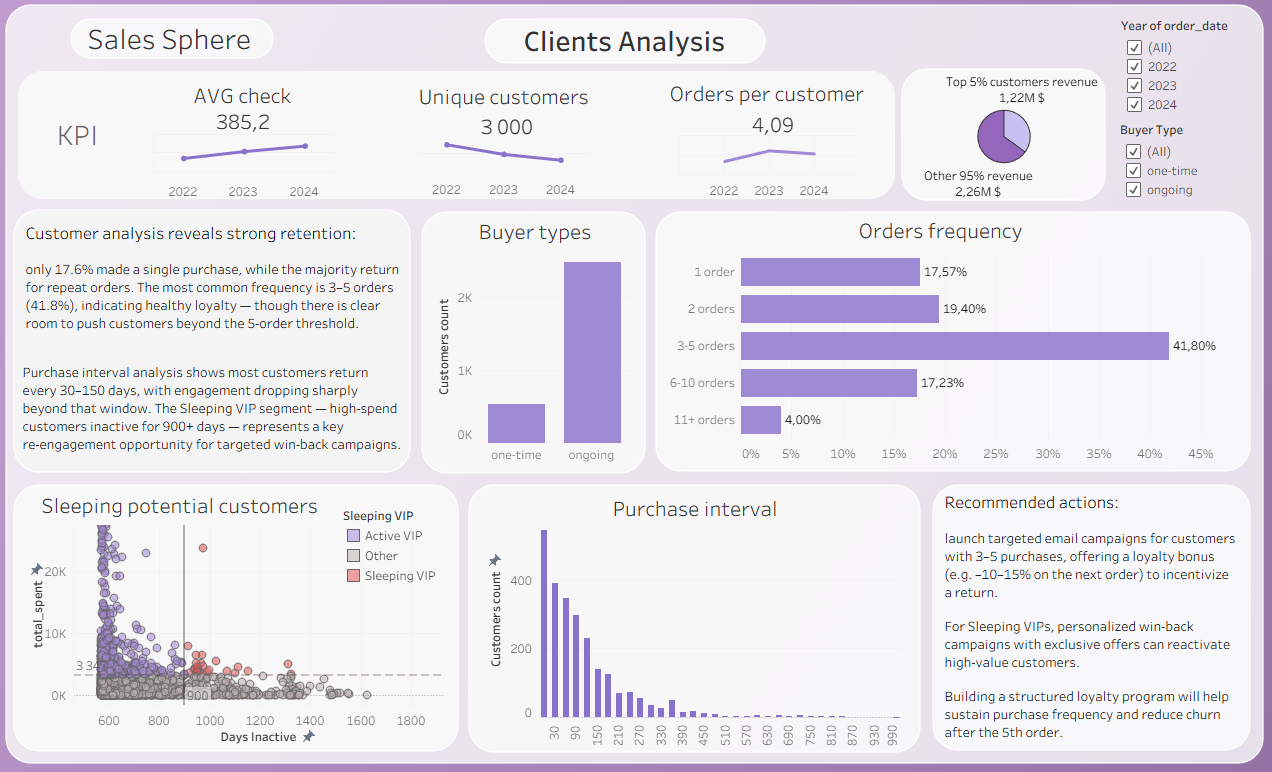

What the dashboard file says about the page in this screenshot:
{"tool":"tableau","page":{"name":"Sales Analysis","canvas":[1000,1000],"units":"permille","ordinal":1},"visuals":[{"type":"image","param":"Image/purple background.jpg","box":[6.2,10,987.7,980]},{"type":"worksheet","title":"box2","mark":"Automatic","box":[8.5,13.8,982.3,971.2]},{"type":"filter","title":"% of one-time clients","param":"[federated.16hij791u4px5y1g7jlc21do052q].[yr:order_date:ok]","box":[873.1,27.3,90.3,121.2]},{"type":"text","box":[76.5,40.9,140,48.5]},{"type":"text","box":[411.7,47,178.2,42.4]},{"type":"worksheet","title":"Top 5% clients vs others (pie)","mark":"Pie","box":[710,106.2,146.2,163.8]},{"type":"text","box":[518.3,113.6,174.9,37.9]},{"type":"text","box":[157.8,118.2,92.8,36.4]},{"type":"text","box":[331.2,118.2,147.3,37.9]},{"type":"filter","title":"Active VIP vs Sleeping VIP","param":"[federated.16hij791u4px5y1g7jlc21do052q].[none:Calculation_1966226206511106:nk]","box":[872.2,150,104.2,119.7]},{"type":"worksheet","title":"AVG check","mark":"Automatic","box":[160.3,153,80.5,45.5]},{"type":"worksheet","title":"Unique customers","mark":"Automatic","box":[367,154.6,99.3,50]},{"type":"worksheet","title":"Orders per customer (avg)","mark":"Automatic","box":[578.5,156.1,67.5,48.5]},{"type":"text","box":[52.3,157.5,45.4,55]},{"type":"worksheet","title":"AVG check (2)","mark":"Automatic","rows":["net_amount"],"cols":["order_date"],"box":[128.5,185,140,78.8]},{"type":"worksheet","title":"Orders per customer (avg) (2)","mark":"Automatic","rows":["avg_orders"],"cols":["order_year"],"box":[533,189.4,138.3,74.2]},{"type":"worksheet","title":"Unique customers (2)","mark":"Automatic","rows":["customer_id"],"cols":["signup_date"],"box":[332.3,192.5,131.5,72.5]},{"type":"text","box":[28.5,271.2,325.5,197]},{"type":"text","box":[406.8,286.4,107.4,37.9]},{"type":"text","box":[668.8,286.4,179.8,37.9]},{"type":"worksheet","title":"Orders frequency","mark":"Automatic","rows":["Calculation_1045660456833024"],"box":[554.9,333.3,410.9,266.7]},{"type":"worksheet","title":"% of one-time clients","mark":"Automatic","rows":["customer_id"],"cols":["Calculation_1966226206511106"],"box":[382.4,336.4,150.5,263.6]},{"type":"text","box":[28.5,462.1,328.7,136.4]},{"type":"text","box":[40.7,630.3,235.2,37.9]},{"type":"text","box":[735.4,632.5,229.2,312.5]},{"type":"text","box":[480,633.8,143.8,37.5]},{"type":"legend","title":"Active VIP vs Sleeping VIP","param":"[federated.16hij791u4px5y1g7jlc21do052q].[none:Calculation_1966226214854662:nk]","box":[275,651.5,86.2,118.2]},{"type":"worksheet","title":"AVG days between orders","mark":"Bar","rows":["customer_id"],"cols":["avg_days_between_orders (bin)"],"box":[380,667.5,323.9,283.8]},{"type":"worksheet","title":"Active VIP vs Sleeping VIP","mark":"Circle","rows":["Calculation_1966226210865157"],"cols":["Calculation_1966226210680836"],"box":[33.1,673.8,319.2,275]}]}

Visuals, with their boxes on the dashboard's canvas, which has no fixed pixel size, in thousandths of its width and height (x1, y1, x2, y2). These are canvas units, not pixel positions in the 1272x772 screenshot, which may show the page scaled, cropped or inside an application window:
image: box(6, 10, 994, 990)
"box2" worksheet: box(8, 14, 991, 985)
"% of one-time clients" filter: box(873, 27, 963, 148)
text: box(76, 41, 216, 89)
text: box(412, 47, 590, 89)
"Top 5% clients vs others (pie)" worksheet (Pie marks): box(710, 106, 856, 270)
text: box(518, 114, 693, 152)
text: box(158, 118, 251, 155)
text: box(331, 118, 478, 156)
"Active VIP vs Sleeping VIP" filter: box(872, 150, 976, 270)
"AVG check" worksheet: box(160, 153, 241, 198)
"Unique customers" worksheet: box(367, 155, 466, 205)
"Orders per customer (avg)" worksheet: box(578, 156, 646, 205)
text: box(52, 158, 98, 212)
"AVG check (2)" worksheet: box(128, 185, 268, 264)
"Orders per customer (avg) (2)" worksheet: box(533, 189, 671, 264)
"Unique customers (2)" worksheet: box(332, 192, 464, 265)
text: box(28, 271, 354, 468)
text: box(407, 286, 514, 324)
text: box(669, 286, 849, 324)
"Orders frequency" worksheet: box(555, 333, 966, 600)
"% of one-time clients" worksheet: box(382, 336, 533, 600)
text: box(28, 462, 357, 598)
text: box(41, 630, 276, 668)
text: box(735, 632, 965, 945)
text: box(480, 634, 624, 671)
"Active VIP vs Sleeping VIP" legend: box(275, 652, 361, 770)
"AVG days between orders" worksheet (Bar marks): box(380, 668, 704, 951)
"Active VIP vs Sleeping VIP" worksheet (Circle marks): box(33, 674, 352, 949)
